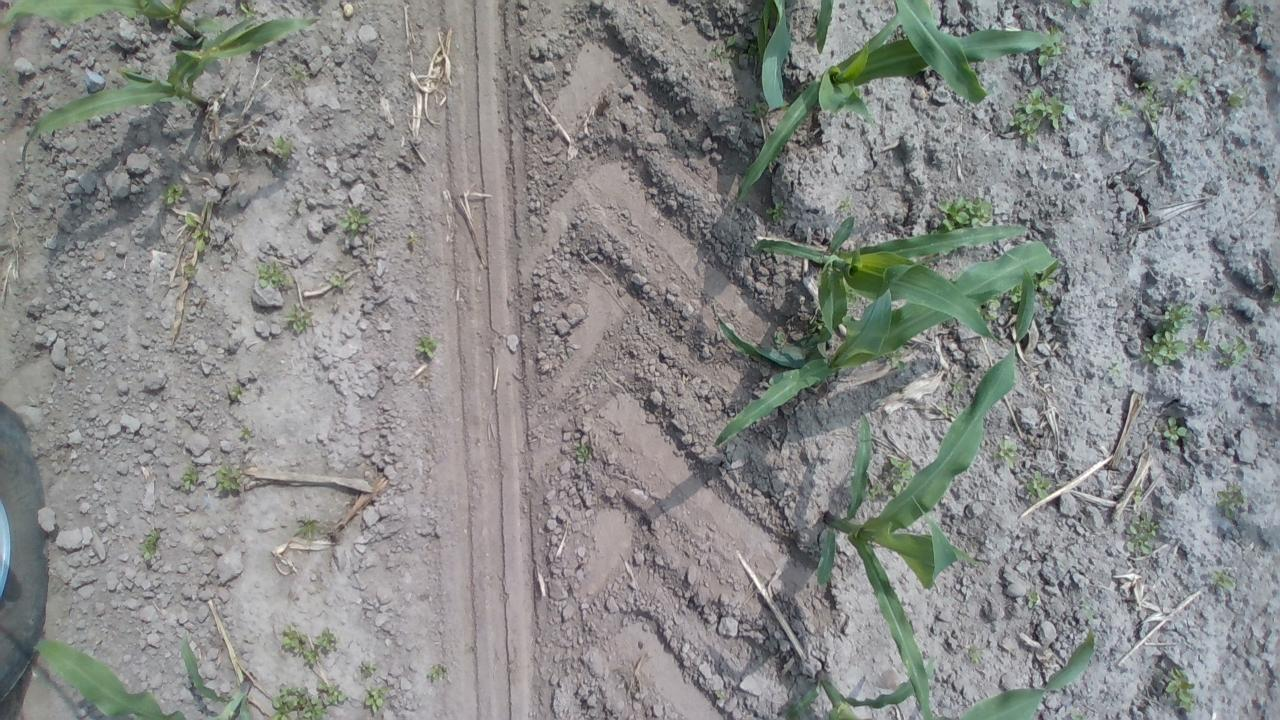Maize: (814, 275, 1034, 720), (710, 227, 1058, 440), (738, 0, 1054, 197), (21, 13, 318, 158), (751, 216, 1040, 346), (778, 630, 1092, 720), (756, 0, 988, 104), (36, 631, 256, 719), (0, 0, 221, 47)
Weeds: (1006, 86, 1072, 144), (1140, 300, 1194, 367), (270, 682, 346, 719), (931, 193, 996, 234), (280, 622, 338, 666), (876, 456, 915, 500), (1126, 510, 1160, 557), (1165, 666, 1198, 714), (333, 206, 372, 240), (1036, 24, 1065, 67), (1217, 480, 1249, 518), (185, 210, 212, 253), (1138, 78, 1164, 122), (256, 259, 295, 288), (1023, 469, 1056, 502), (709, 34, 742, 66), (1220, 336, 1250, 370), (362, 682, 393, 714), (284, 302, 314, 333), (214, 463, 244, 494), (992, 436, 1021, 467), (1164, 416, 1190, 448), (1029, 262, 1058, 290), (162, 182, 191, 207), (414, 335, 438, 361), (274, 134, 296, 162), (1172, 72, 1200, 94), (140, 528, 158, 562), (1230, 1, 1254, 25), (886, 349, 909, 373), (296, 516, 321, 538), (1077, 594, 1095, 624), (979, 298, 1001, 322), (1210, 569, 1236, 589), (934, 402, 962, 419), (747, 98, 768, 120), (802, 314, 823, 336), (1228, 86, 1248, 109), (766, 200, 786, 223), (180, 465, 198, 490), (288, 60, 308, 81), (426, 663, 448, 682), (1008, 282, 1024, 308), (1192, 335, 1212, 355), (1114, 98, 1133, 118), (1062, 0, 1102, 9), (238, 1, 259, 18), (1024, 588, 1040, 610), (574, 442, 591, 462), (969, 644, 986, 664), (772, 330, 788, 351), (947, 378, 965, 396), (1208, 302, 1224, 322), (360, 660, 379, 676), (1038, 292, 1053, 312), (838, 195, 852, 214), (181, 260, 196, 277), (1131, 485, 1143, 506), (328, 274, 346, 288), (228, 383, 243, 399), (238, 424, 252, 439), (846, 291, 858, 305), (714, 688, 727, 700), (1070, 710, 1085, 720), (1108, 364, 1121, 375)
